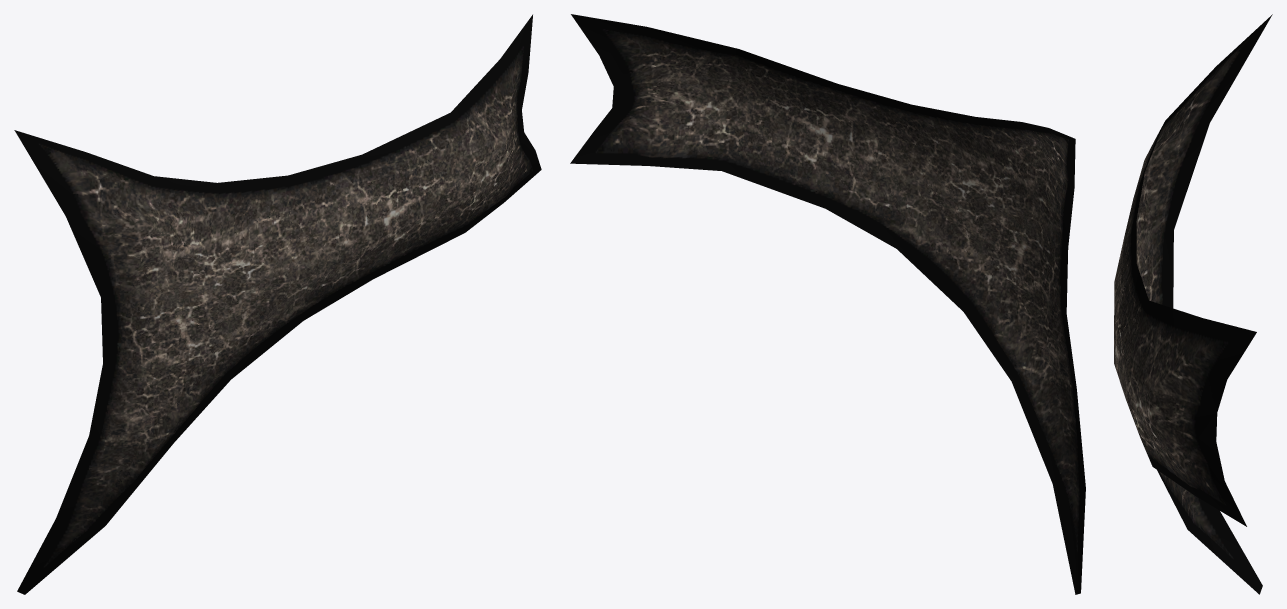
The model's file is cobwebs_strong_04.dae.
The picture shows the model from 3 angles, left to right: view 1: azimuth 30°, elevation 25°; view 2: azimuth 150°, elevation 25°; view 3: azimuth 270°, elevation 25°; orthographic projection. The views are drawn at different scales.
Visible parts, largest first — view 1: cobweb_4; view 2: cobweb_4; view 3: cobweb_4.
Boxes of the visible parts, bbox=[...] form: cobweb_4: bbox=[14, 14, 541, 594]; cobweb_4: bbox=[570, 14, 1085, 594]; cobweb_4: bbox=[1114, 14, 1272, 594].
Bounding box in the file's own units: 0.9199 × 0.784 × 0.1954.
